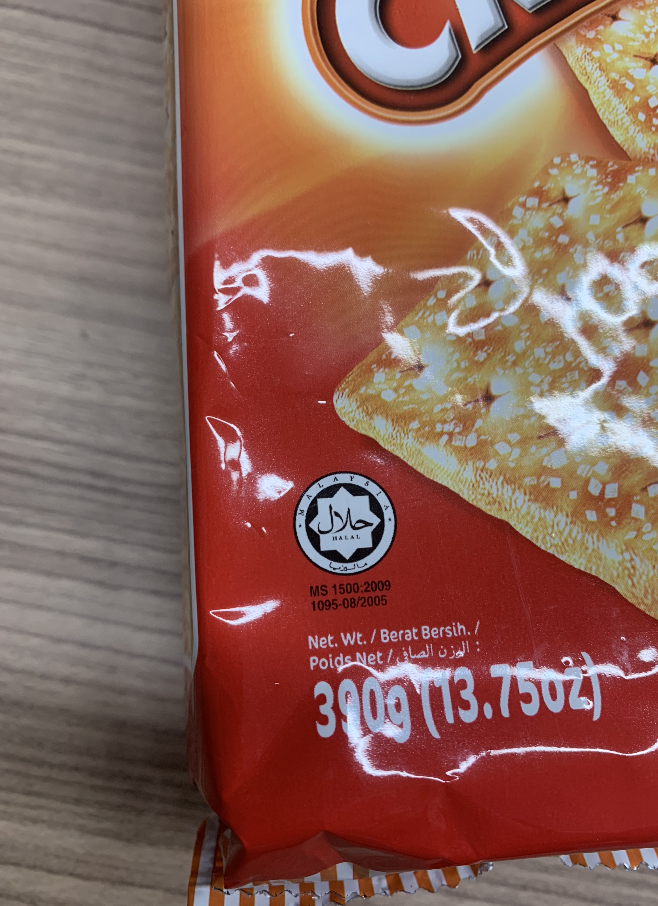halal: (311, 486, 382, 554)
